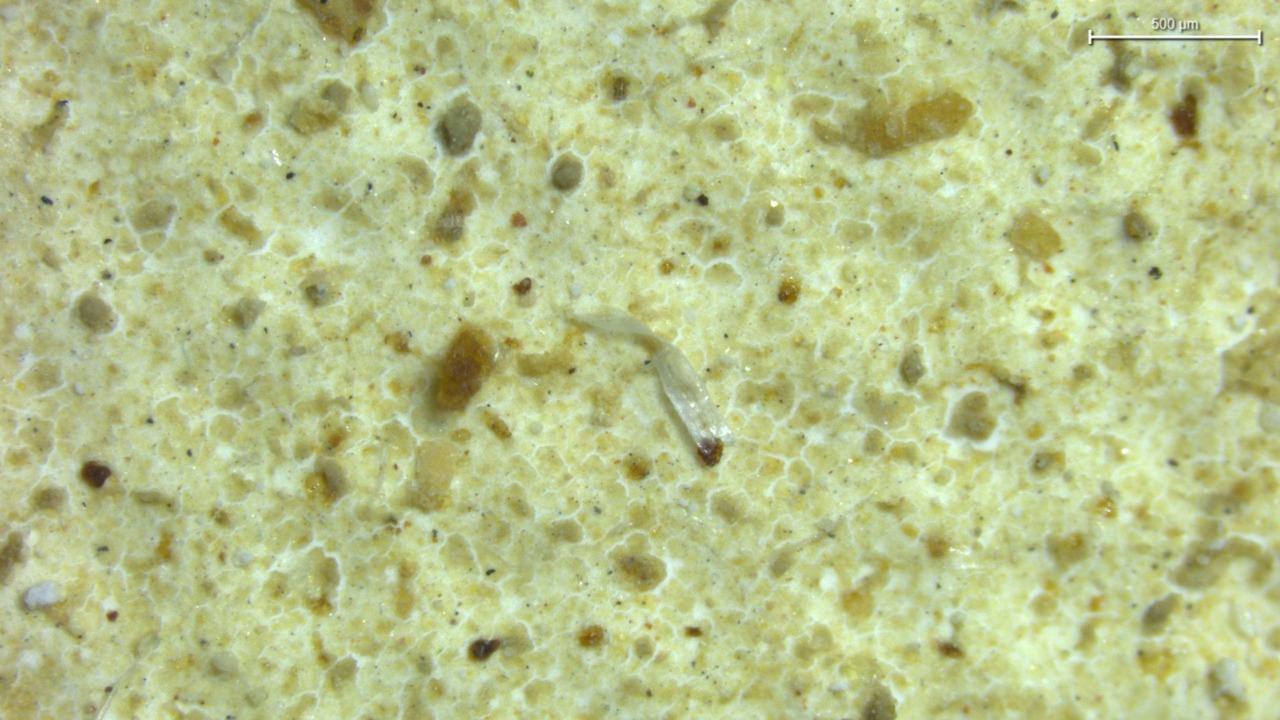microplastic_fragment: (571, 313, 729, 465), (23, 581, 62, 610)
